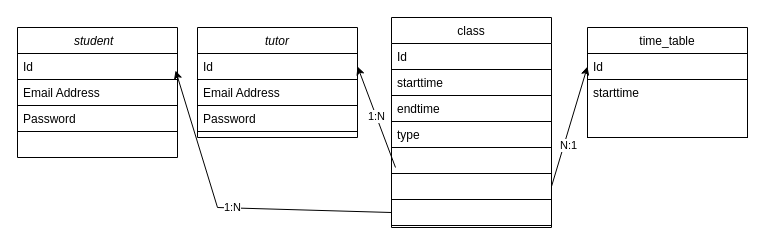
This 765x246 diagram has some shape labels left out. The shapes that lost their labels are listed below. From the top down, each one's centre as x and y in pixels, then its label:
At point 471,160: "tutor_id".
At point 471,186: "time_table_id".
At point 471,212: "user_id".
